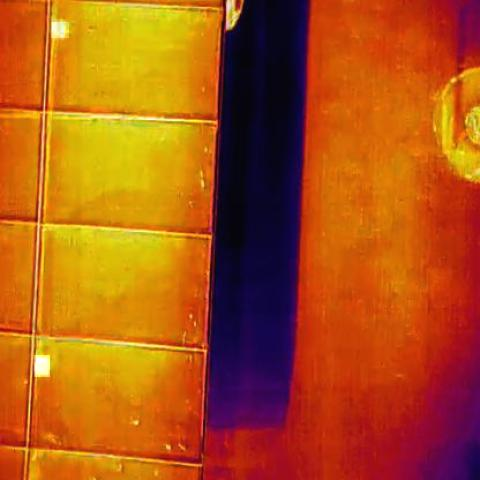fault: (35, 355, 50, 377), (51, 22, 69, 38)
